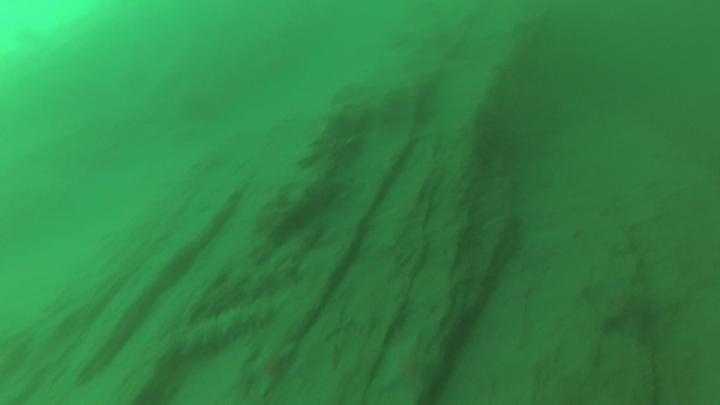holothurian: (174, 297, 281, 359)
starfish: (582, 258, 670, 346), (374, 332, 443, 404), (240, 338, 302, 399)
